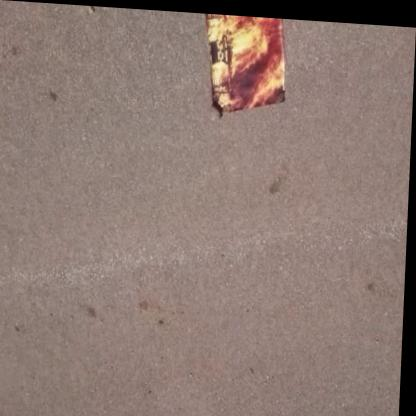fire-poster: (200, 12, 290, 120)
